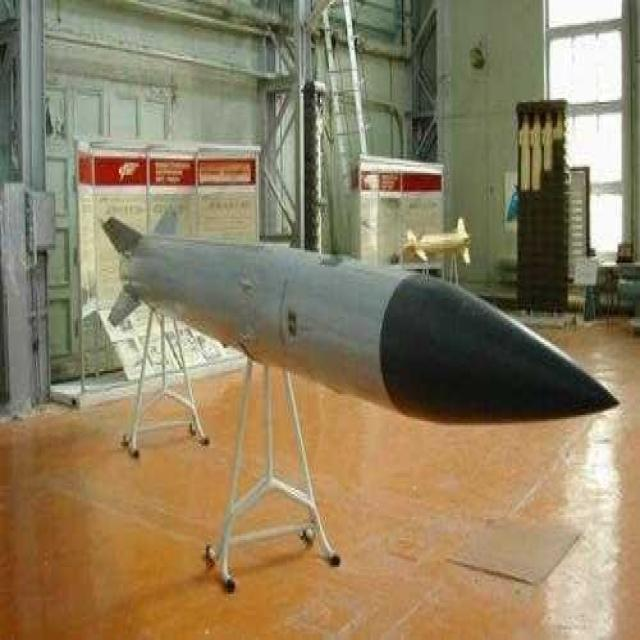missile: (102, 204, 623, 430)
